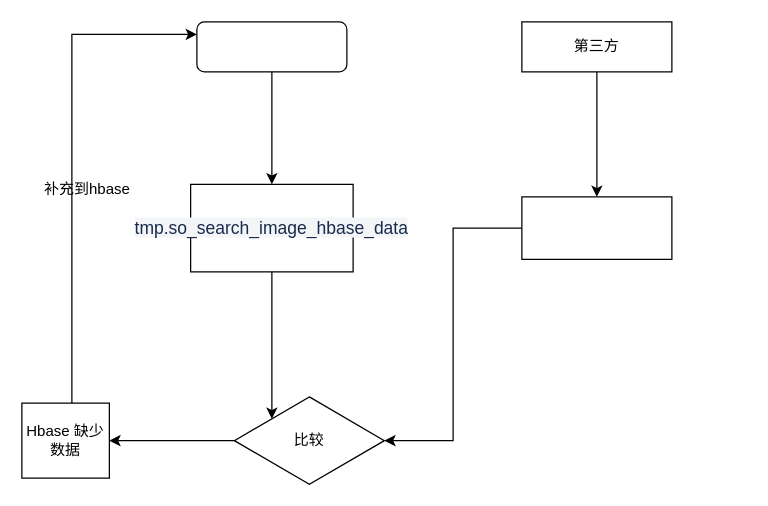
Some shapes in this 768 by 506 pixel diagram are drawn without their labels. The shapes that lost their labels are listed below. From the top down, each one's centre as x and y in pixels, then its label:
At [271,46]: "Hbase".
At [596,227]: "tmp.so_image_images_in_index_table".
